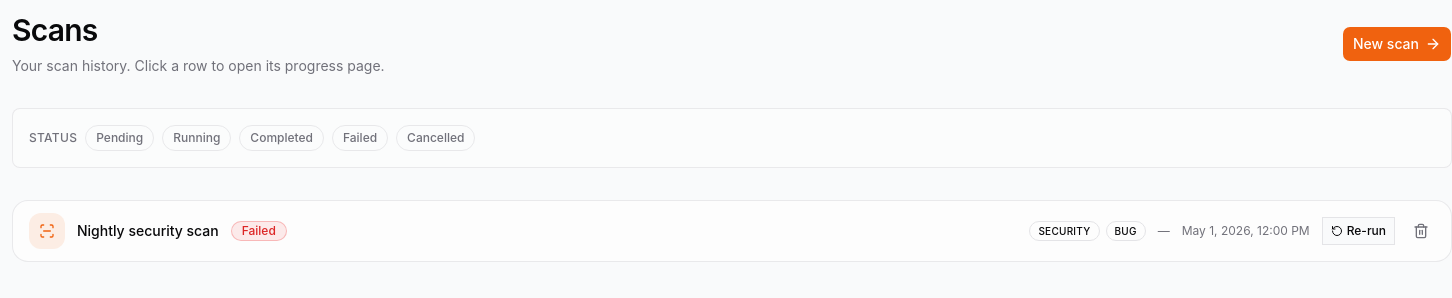
ScansPage › surfaces an inline error when the re-run mutation fails with unprocessable_rerun
Click the button with test id "scan-row-s-1-rerun" at point(1358, 231), box [1322, 217, 1395, 245]
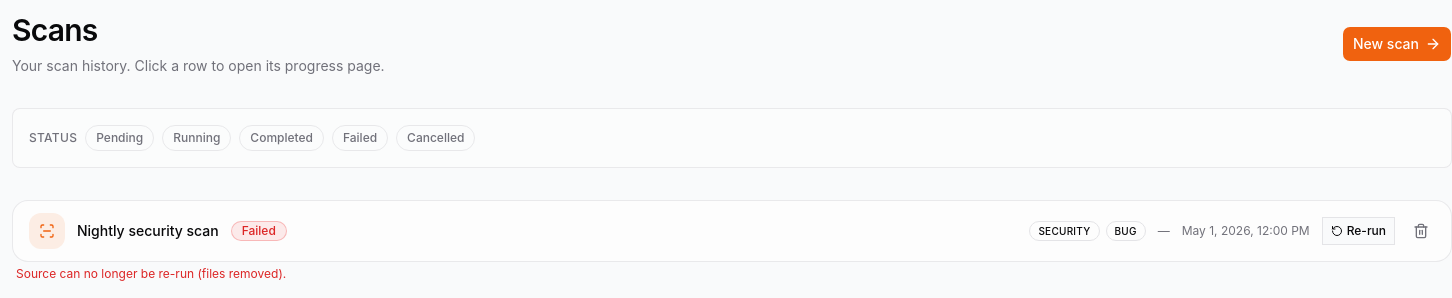
Check: the message with test id "scan-row-s-1-rerun-error" shows "Source can no longer be re-run", box [16, 266, 286, 281]
